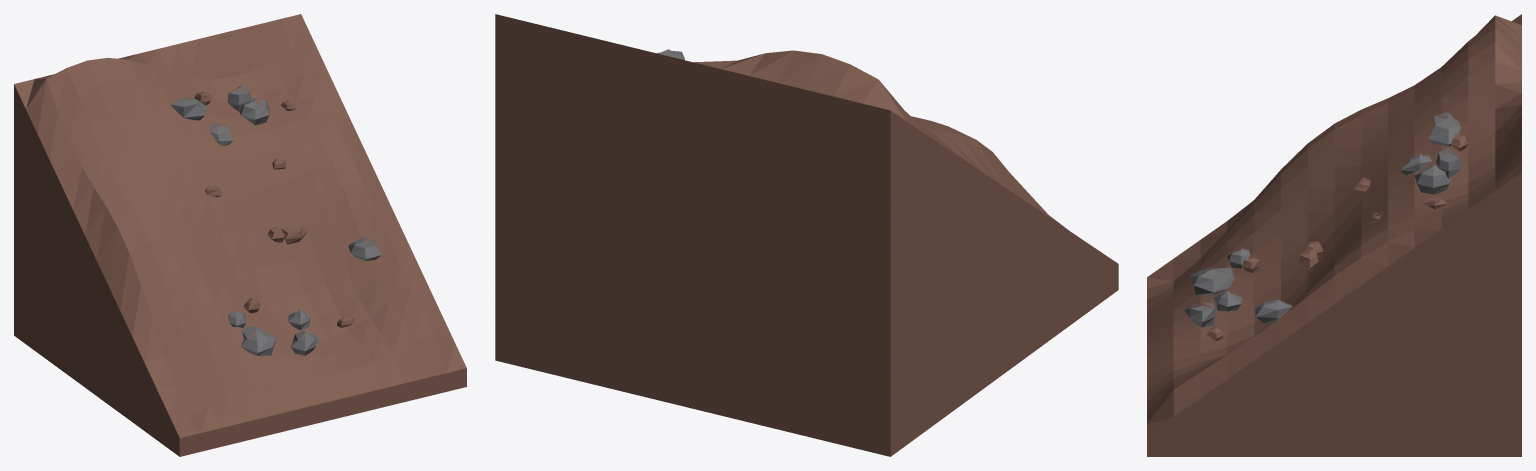
Rendered from volcano-and-lava-fields-volcano-and-lava-fields-cone-f-87b620b7__37434.glb.
The picture shows the model from 3 angles, left to right: view 1: azimuth 30°, elevation 25°; view 2: azimuth 150°, elevation 25°; view 3: azimuth 270°, elevation 25°; orthographic projection. The views are drawn at different scales.
Visible parts, largest first — view 1: volcano-and-lava-fields-cone-flank-module-steep; view 2: volcano-and-lava-fields-cone-flank-module-steep; view 3: volcano-and-lava-fields-cone-flank-module-steep.
Boxes of the visible parts, box(x1,y1,x2,y2) form: volcano-and-lava-fields-cone-flank-module-steep: box(14, 14, 466, 456); volcano-and-lava-fields-cone-flank-module-steep: box(495, 14, 1118, 456); volcano-and-lava-fields-cone-flank-module-steep: box(1147, 14, 1521, 456).
Bounding box in the file's own units: 4 × 3.58 × 4.
2 materials, 2 textured.
